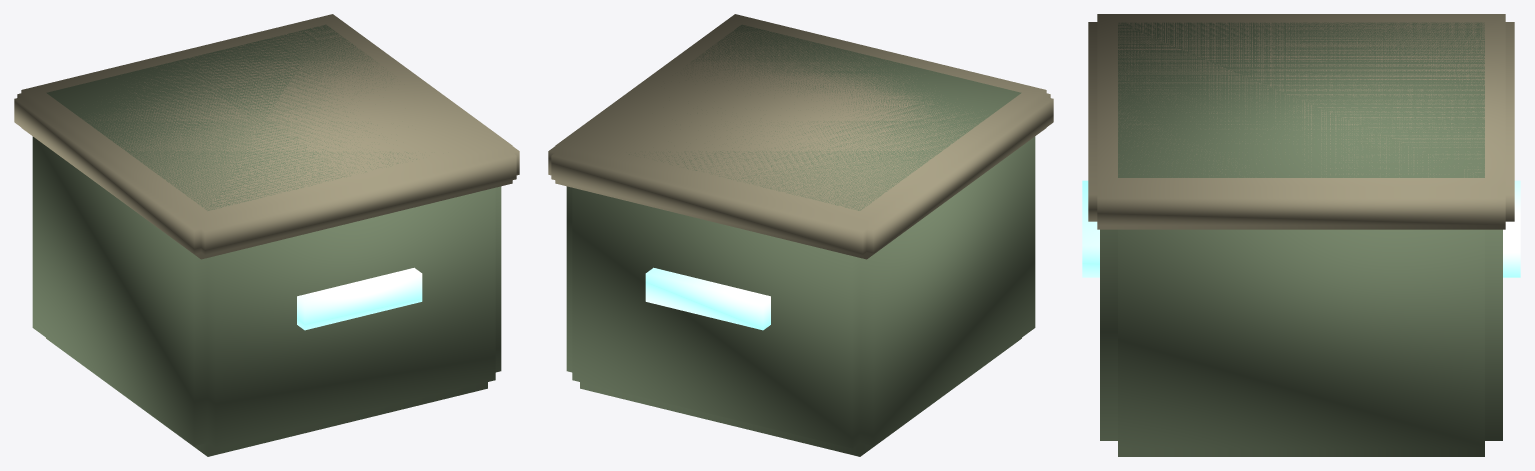
The model's file is crate-drop.glb.
3 renders of one model, left to right at view 1: azimuth 30°, elevation 25°; view 2: azimuth 150°, elevation 25°; view 3: azimuth 270°, elevation 25°, orthographic. The views are drawn at different scales.
Visible parts, largest first — view 1: CrateDrop; view 2: CrateDrop; view 3: CrateDrop.
Boxes of the visible parts, x1,y1,x2,y2 form: CrateDrop: (14,14,519,456); CrateDrop: (548,14,1053,456); CrateDrop: (1082,14,1520,456).
Size of the model in its own units: 0.72 by 0.52 by 0.74.
